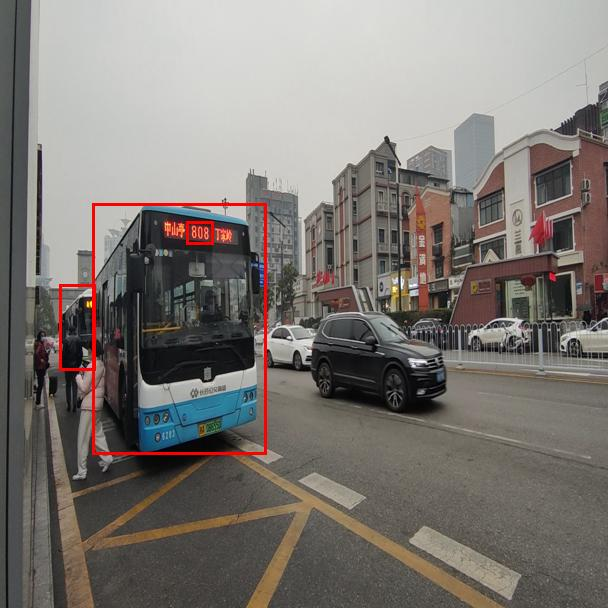bus: (92, 203, 266, 454), (59, 284, 95, 370)
screen: (186, 221, 213, 244)
